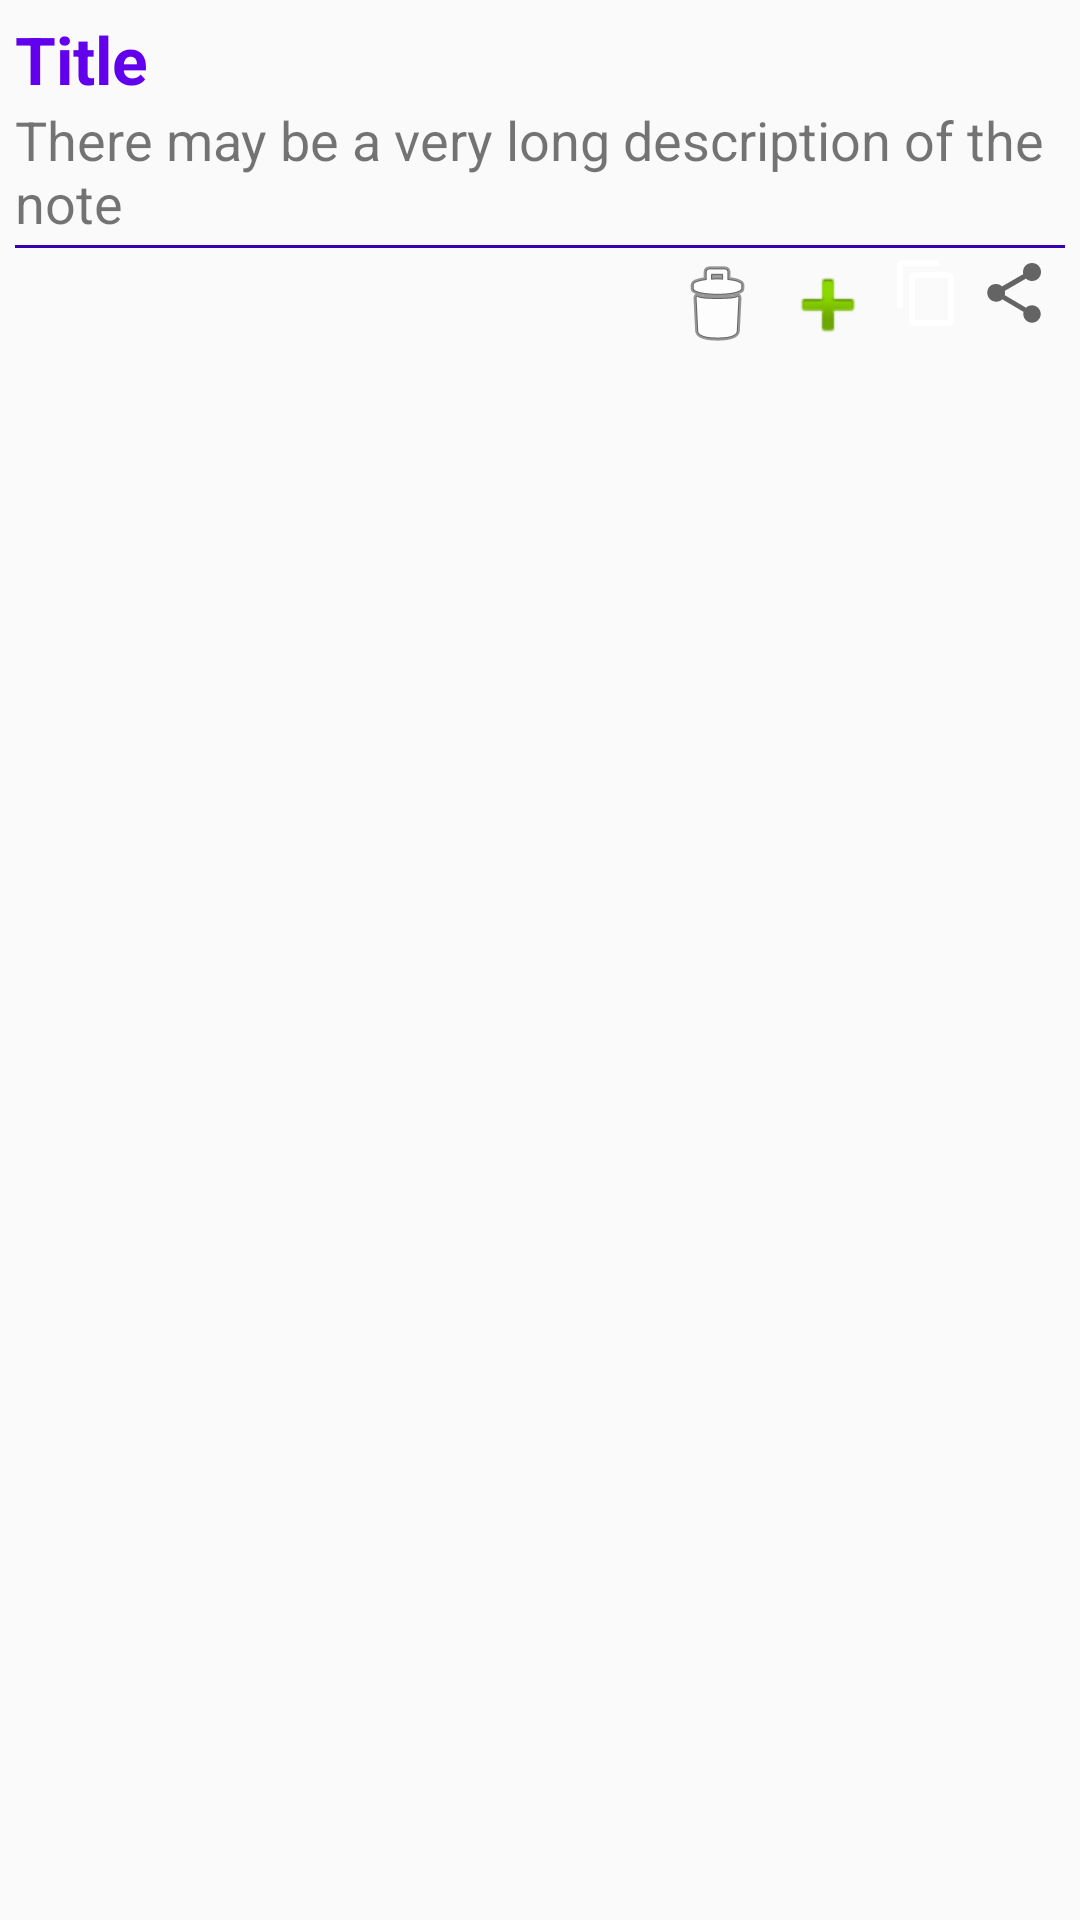

Icons on this 1080*1920 Android screen, each with its box as rect(x1, y1, x2, y2):
add: rect(801, 278, 855, 332)
delete: rect(690, 266, 745, 341)
